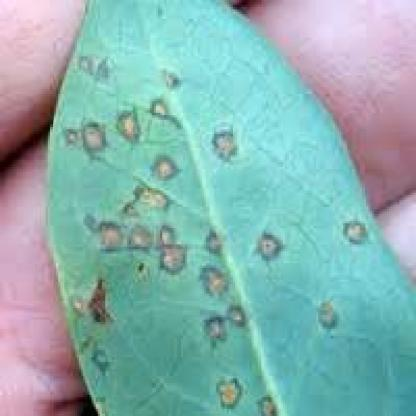black-spot: (63, 96, 236, 270), (252, 208, 372, 333), (191, 302, 248, 408)
